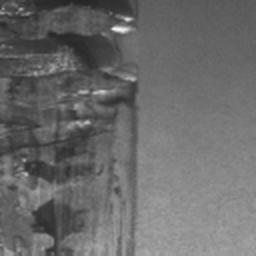Slag inclusion: (0, 0, 146, 256)
